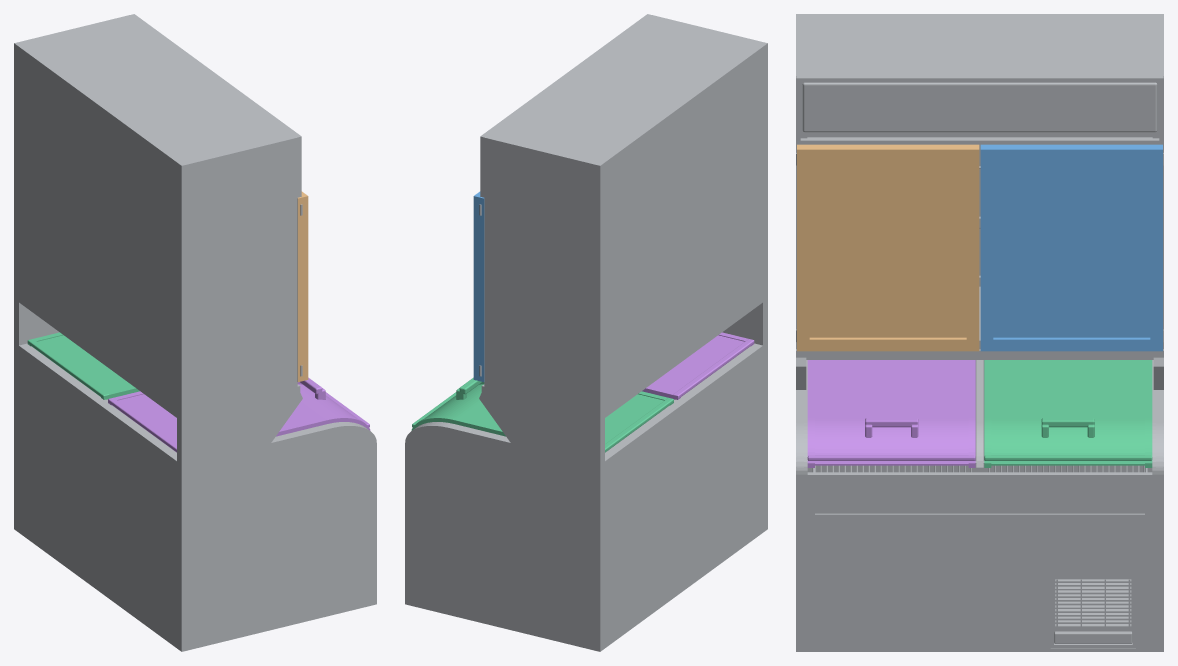
Rendered from parts.glb.
3 renders of one model, left to right at view 1: azimuth 30°, elevation 25°; view 2: azimuth 150°, elevation 25°; view 3: azimuth 270°, elevation 25°, orthographic. The views are drawn at different scales.
Visible parts, largest first — view 1: visual_0_0, visual_4_0, visual_3_0, visual_2_0; view 2: visual_0_0, visual_3_0, visual_4_0, visual_1_0; view 3: visual_0_0, visual_1_0, visual_2_0, visual_3_0, visual_4_0.
Part boxes in pixels (box(x1,y1,x2,y2)): visual_0_0: box(14, 14, 376, 651); visual_4_0: box(108, 377, 370, 452); visual_3_0: box(27, 332, 139, 399); visual_2_0: box(297, 191, 308, 382); visual_0_0: box(405, 14, 767, 651); visual_3_0: box(411, 377, 673, 452); visual_4_0: box(642, 332, 754, 399); visual_1_0: box(473, 191, 484, 382); visual_0_0: box(796, 14, 1163, 651); visual_1_0: box(980, 144, 1162, 351); visual_2_0: box(797, 144, 979, 351); visual_3_0: box(984, 360, 1152, 467); visual_4_0: box(807, 360, 975, 467).
Size of the model in its own units: 0.8405 by 2 by 1.25.
